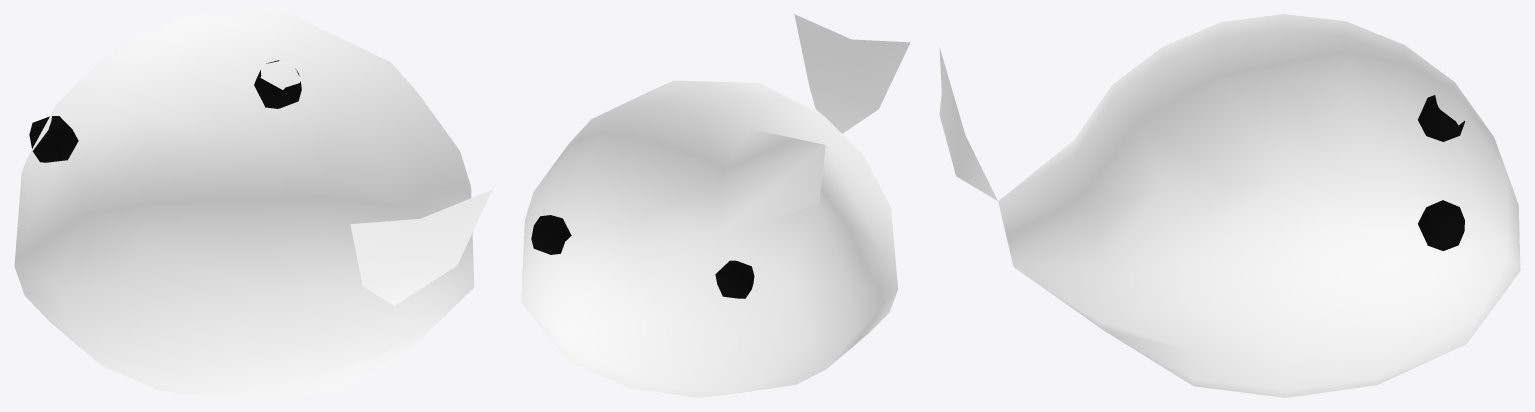
Rendered from ps2_save-icons_saishuukujira.glb.
3 renders of one model, left to right at view 1: azimuth 30°, elevation 25°; view 2: azimuth 150°, elevation 25°; view 3: azimuth 270°, elevation 25°, orthographic. The views are drawn at different scales.
Parts seen in each view (by area): view 1: kujira.ico; view 2: kujira.ico; view 3: kujira.ico.
Boxes of the visible parts, box(x1,y1,x2,y2) form: kujira.ico: box(14, 14, 491, 397); kujira.ico: box(521, 14, 910, 397); kujira.ico: box(939, 14, 1520, 397).
Size of the model in its own units: 2.68 by 2.17 by 3.5.
Materials: 1 (1 with a texture image).
